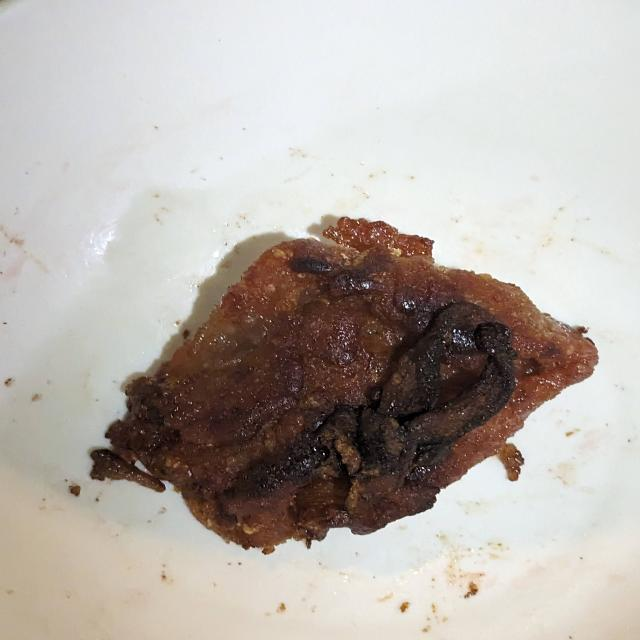overcooked pork: (79, 185, 626, 566)
